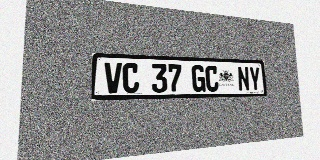3: (152, 64, 167, 93)
7: (167, 64, 182, 92)
C: (122, 63, 139, 93), (205, 65, 219, 92)
G: (191, 65, 206, 92)
N: (237, 66, 250, 91)
V: (104, 62, 122, 93)
Y: (249, 67, 261, 91)
